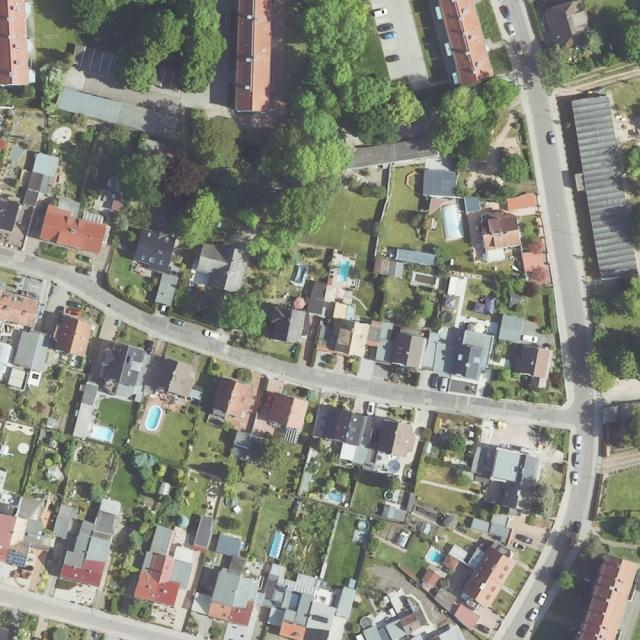PV: (5, 550, 27, 567)
